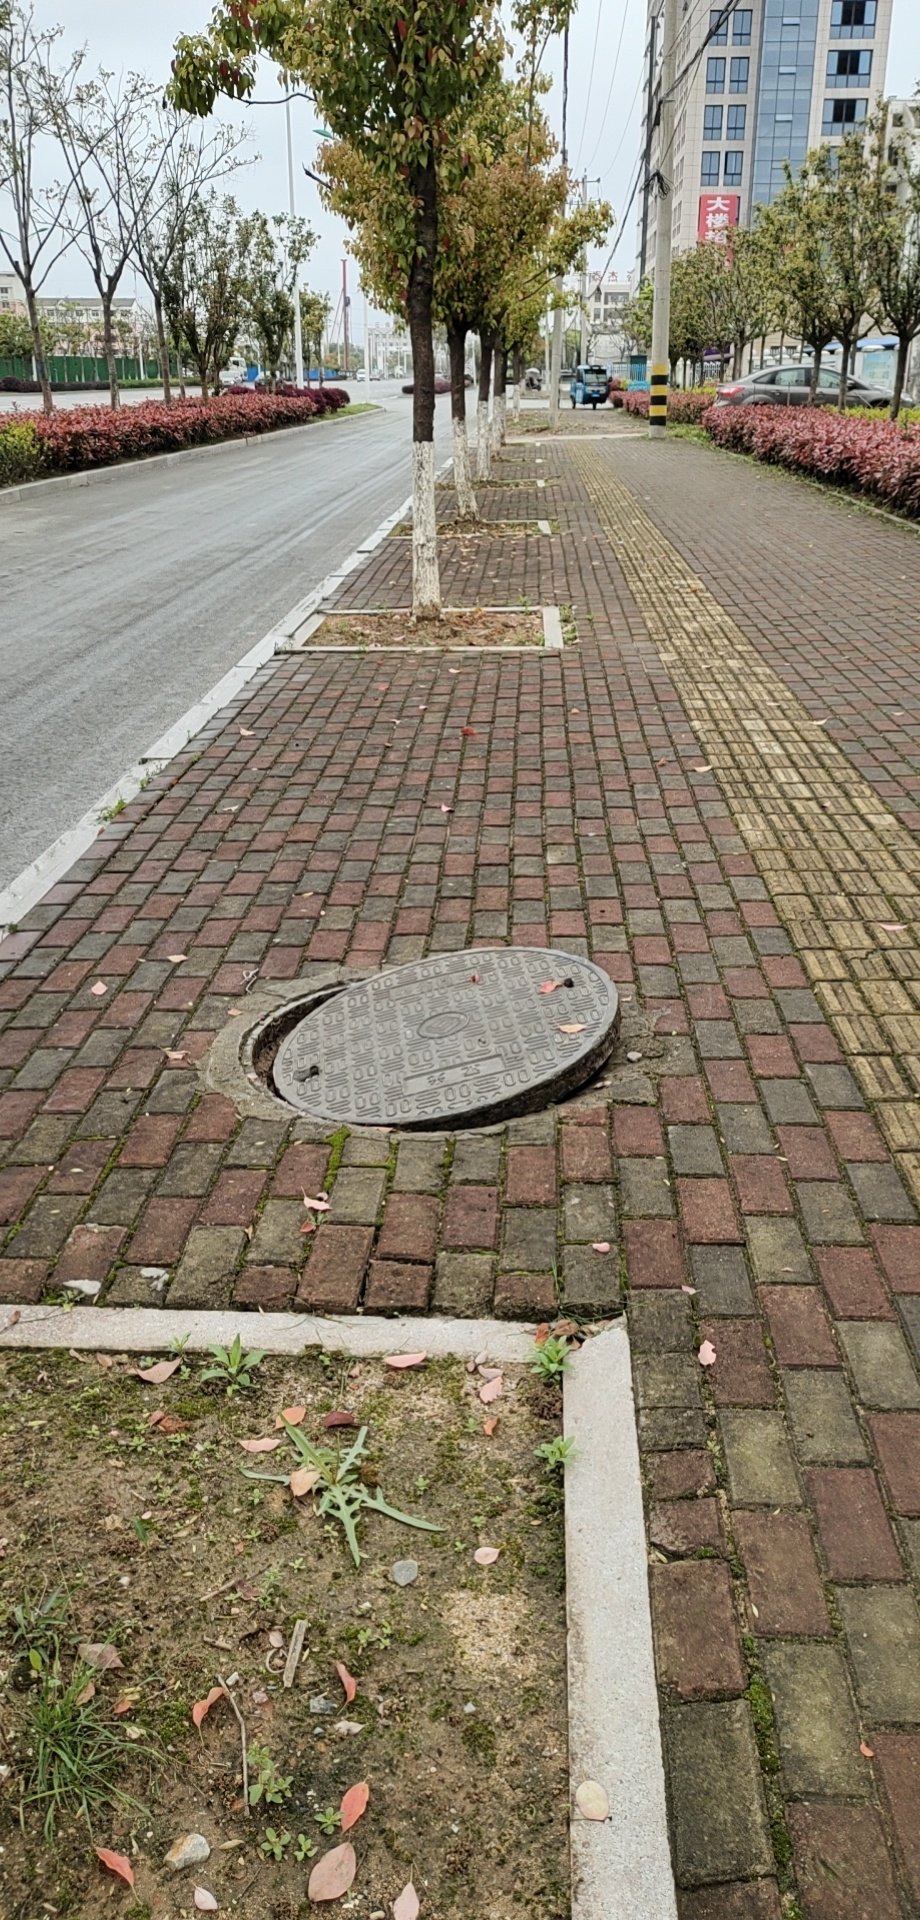uncovered: (205, 948, 628, 1140)
